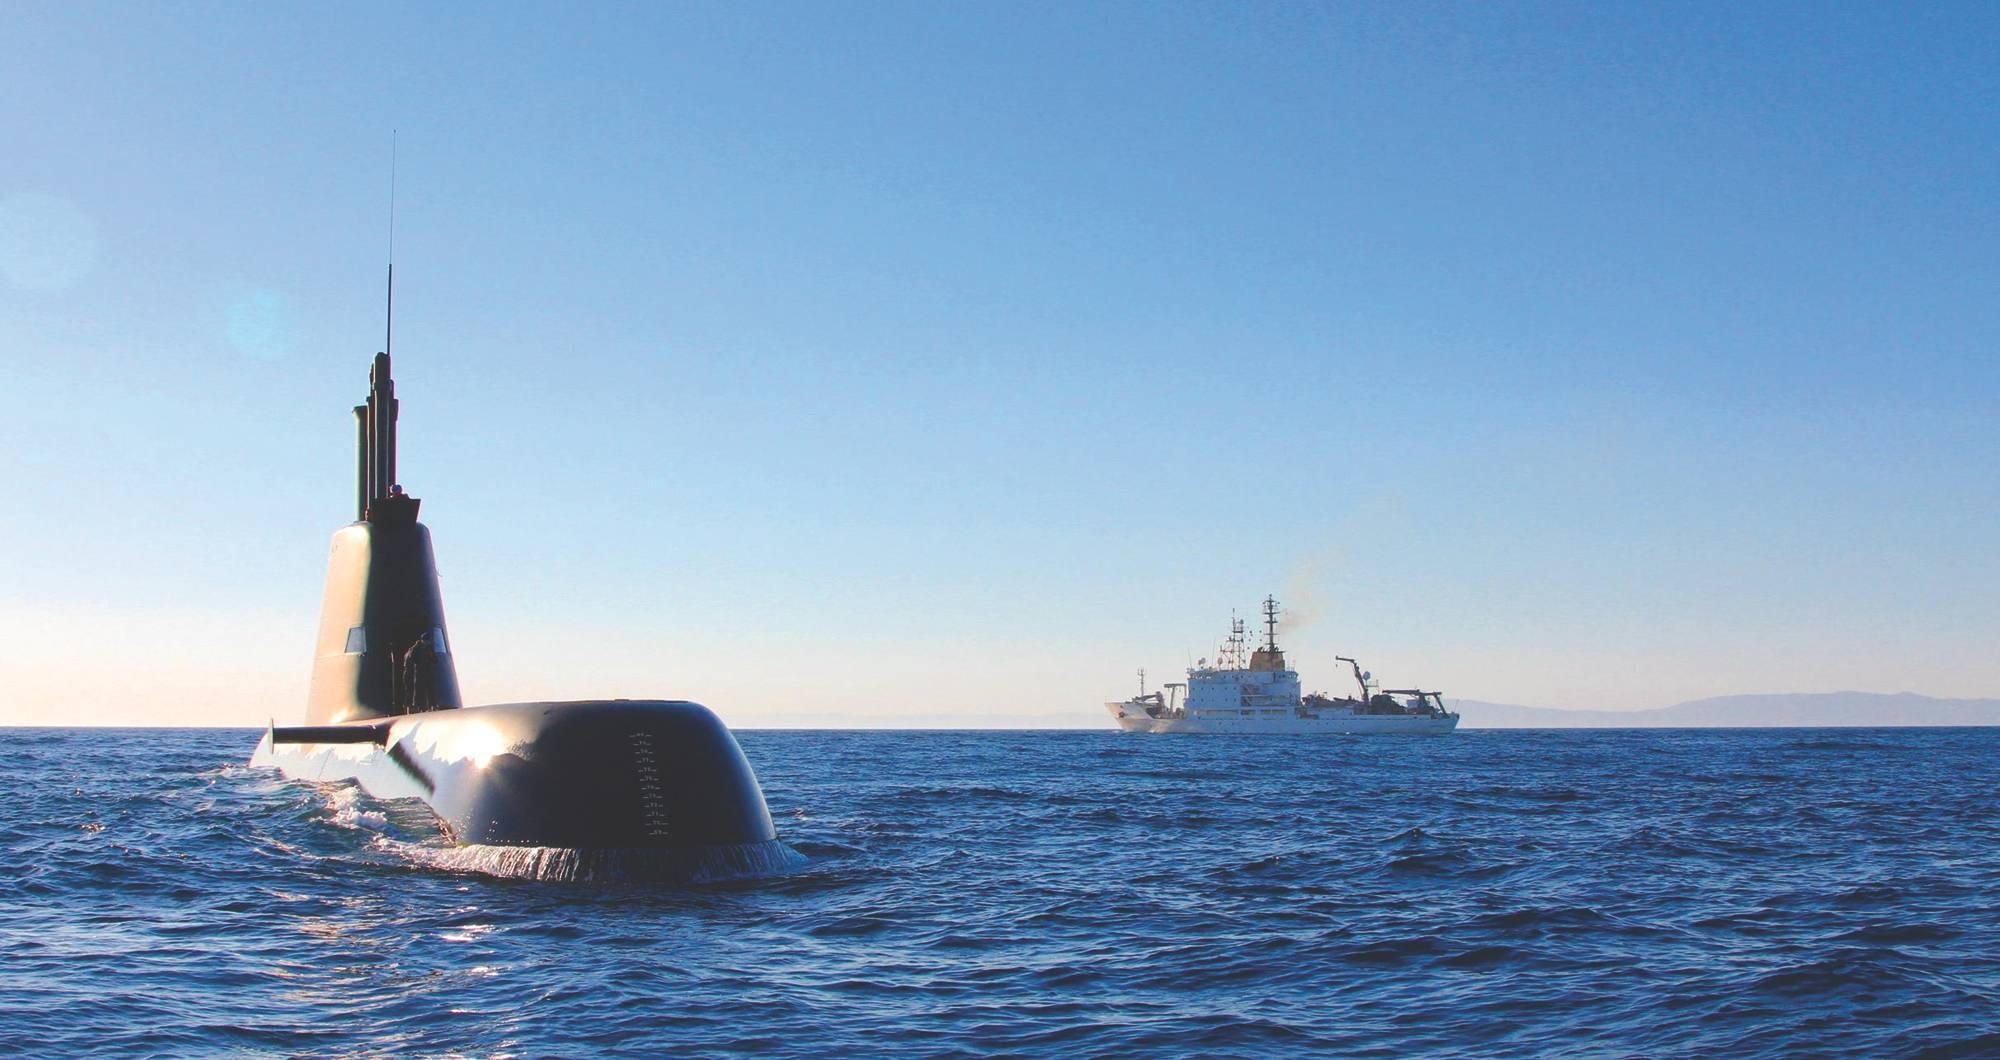Submarine: (42, 270, 995, 1012)
